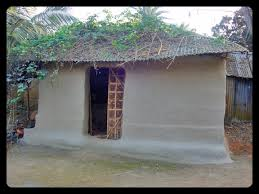Mud House: (21, 25, 237, 165)
